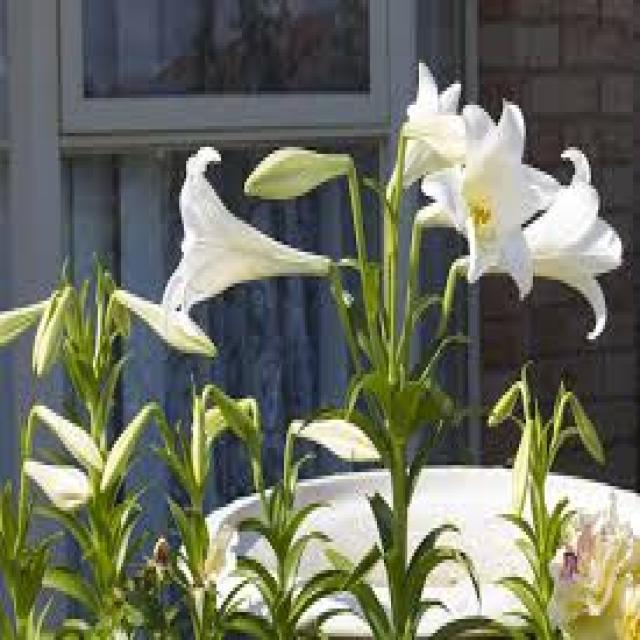lily: (159, 105, 362, 364)
